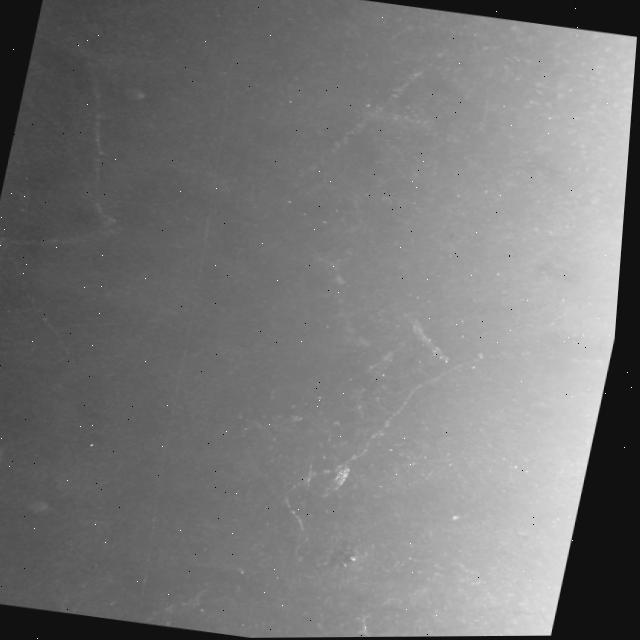beta: (271, 329, 496, 585), (292, 0, 472, 206), (0, 203, 119, 368), (51, 54, 151, 228), (0, 204, 119, 265), (363, 611, 407, 638)
